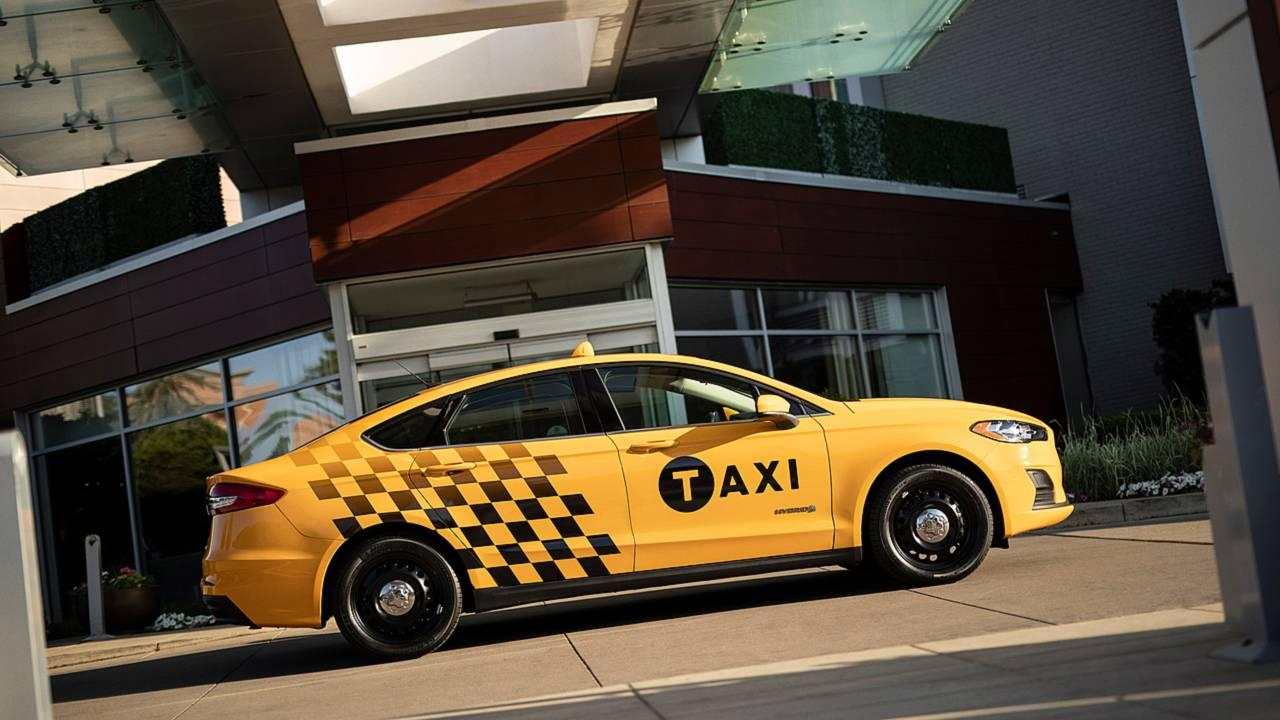taxi: (235, 338, 1108, 633)
